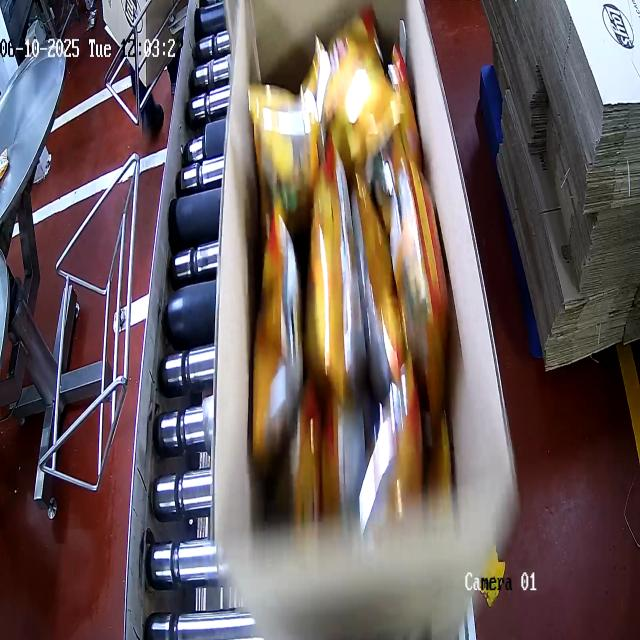FRENCH_CHEESE: (250, 41, 464, 552)
